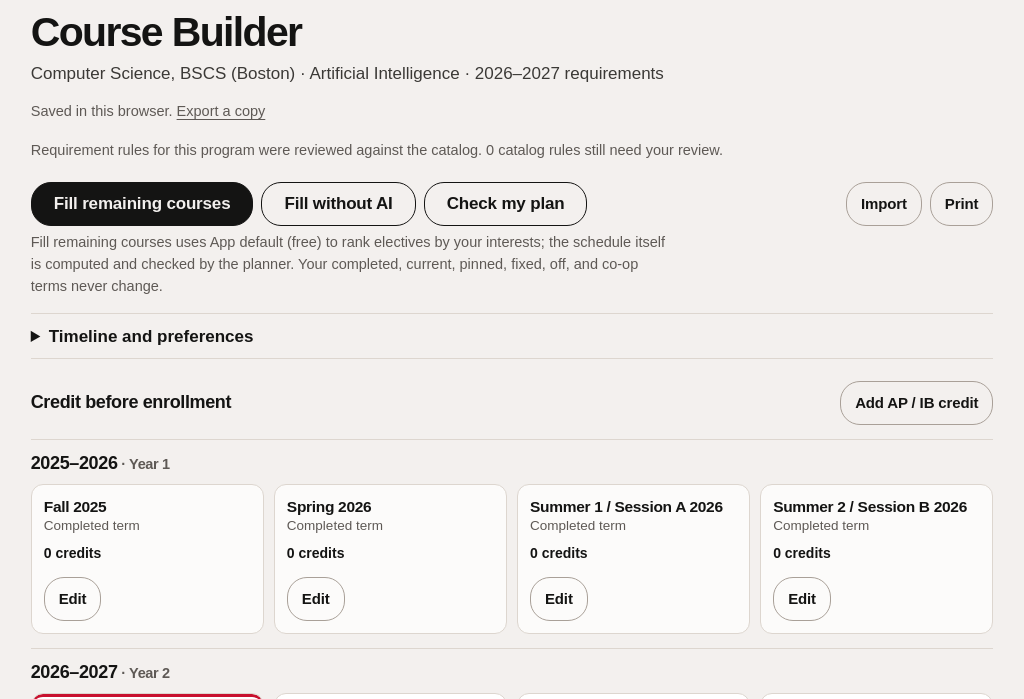
Test: a late proposal for an older revision cannot be applied
Expected: the text "were reviewed against the catalog" is shown, x1=31 y1=142 x2=723 y2=158
Click the button "Fill without AI" at coordinates (339, 204), box x1=261 y1=182 x2=416 y2=226
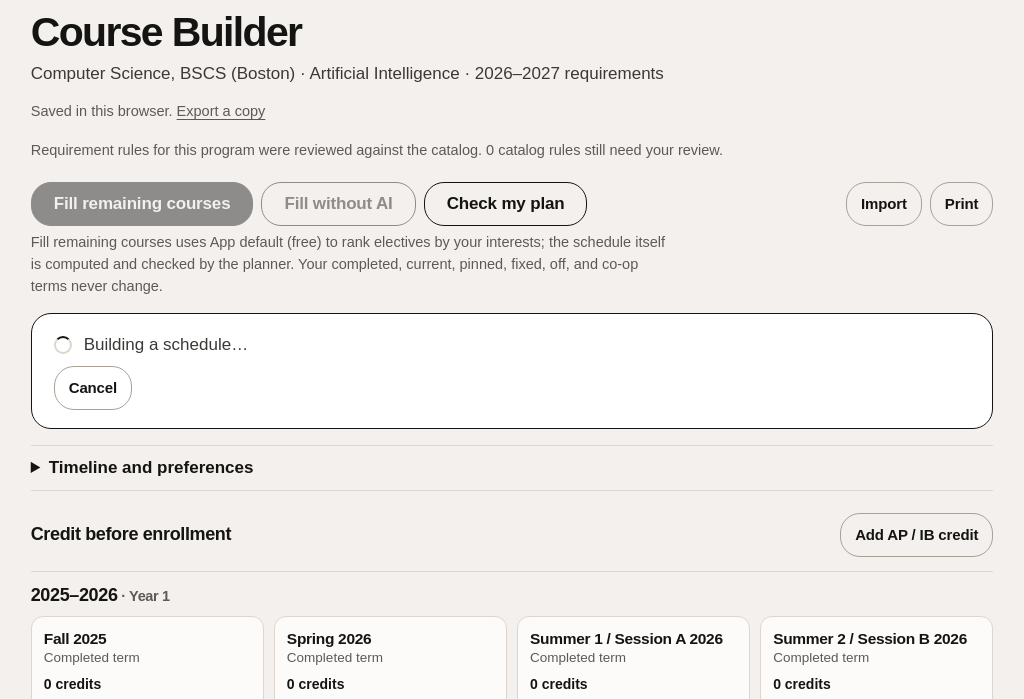
Click the heading "Timeline and preferences" at coordinates (151, 468), box x1=49 y1=458 x2=253 y2=477
(page scrolled)
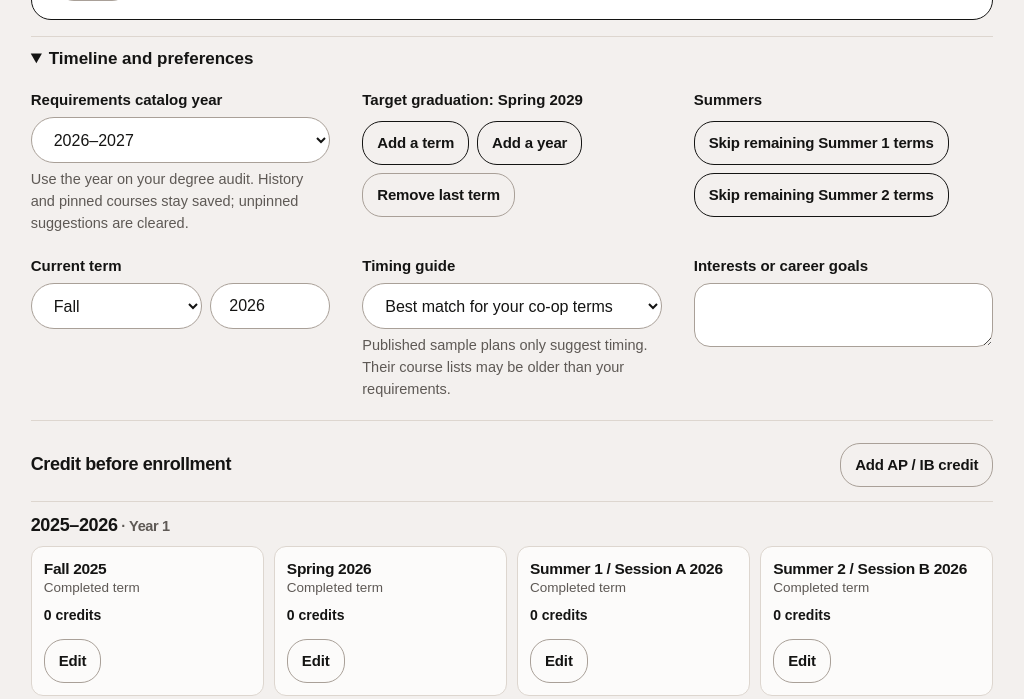
Type "robotics" into the text box labelled "Interests or career goals" at coordinates (844, 315), box x1=694 y1=283 x2=993 y2=347
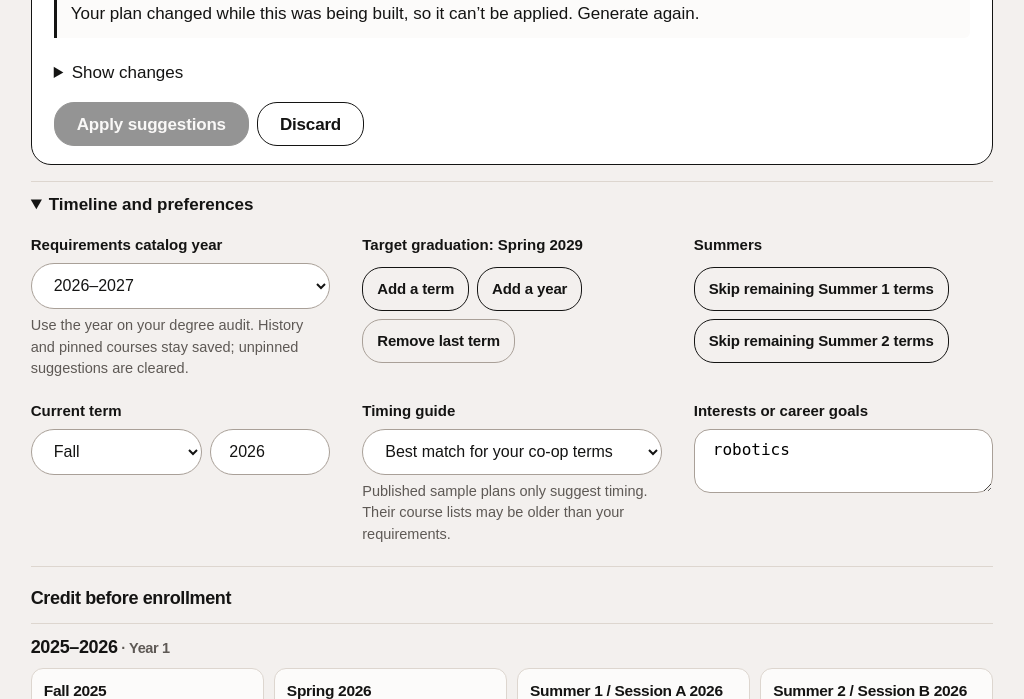
Expected: the text "changed while this was being built" is shown, x1=71 y1=4 x2=700 y2=23
Expected: the button "Apply suggestions" is disabled, x1=54 y1=102 x2=249 y2=146
